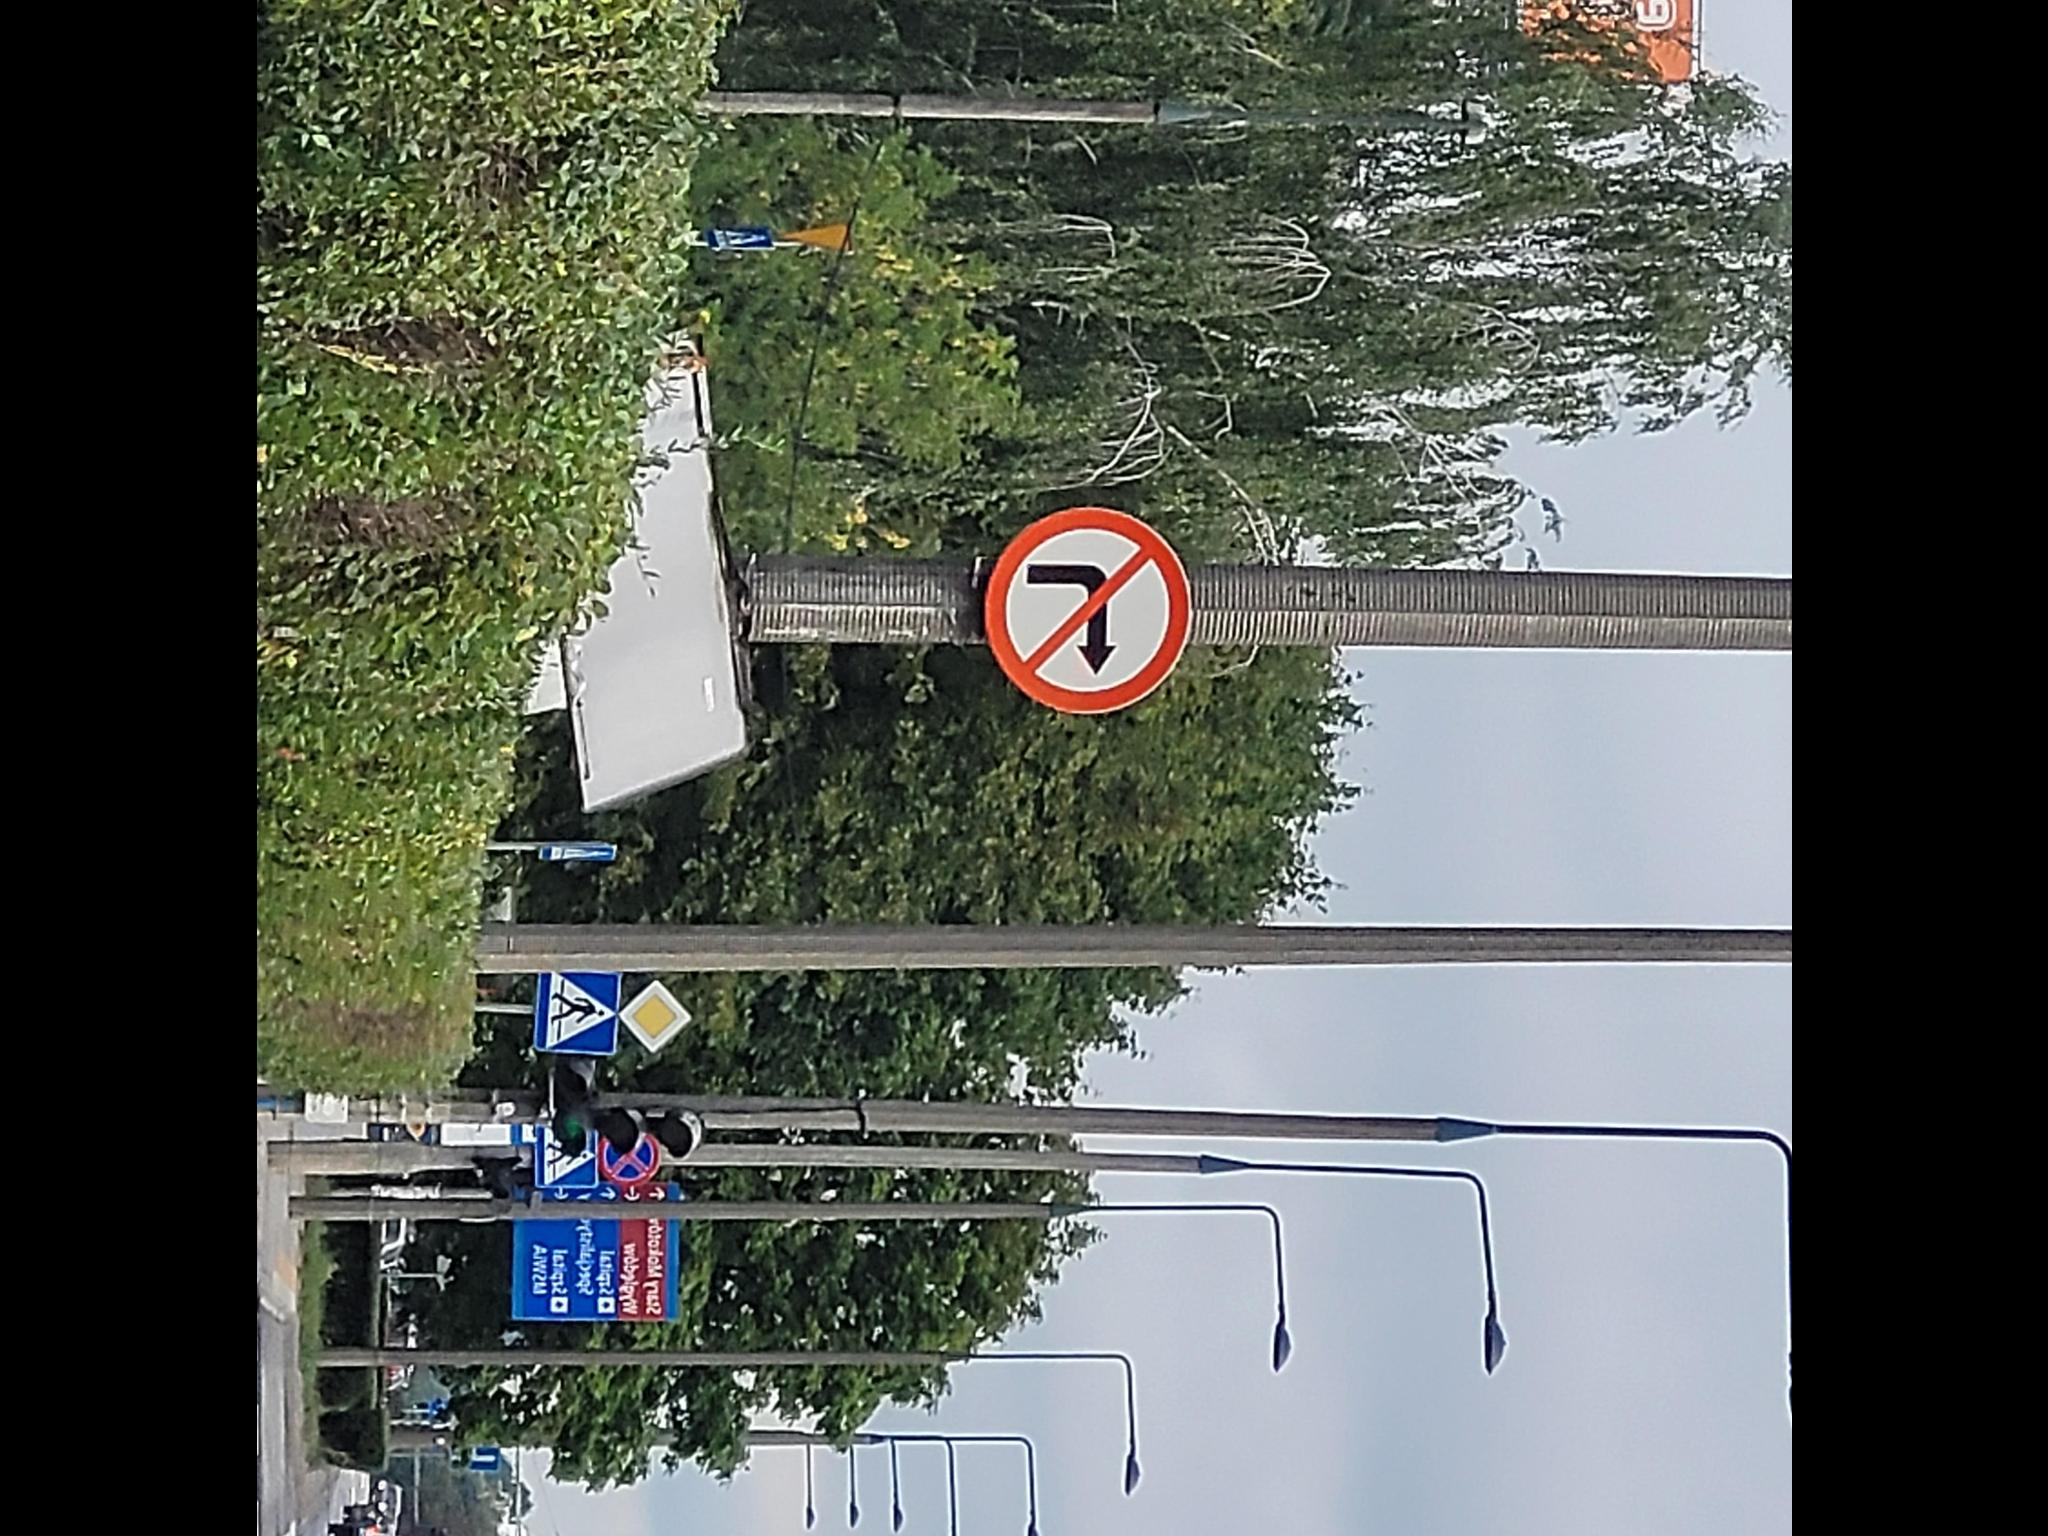information: (539, 971, 616, 1050), (618, 979, 689, 1052), (534, 1147, 595, 1187), (540, 845, 613, 860)
prohibitory: (980, 508, 1195, 715), (597, 1136, 660, 1186)
